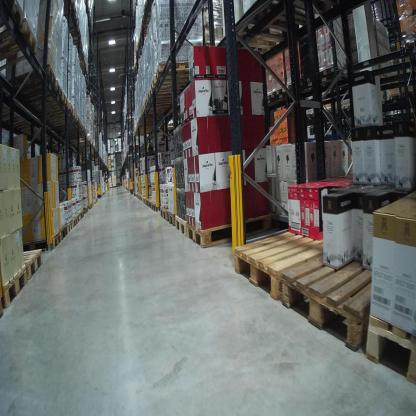pallet: (235, 207, 348, 325), (281, 234, 378, 352), (243, 2, 337, 46), (364, 313, 416, 385), (188, 213, 262, 256), (214, 21, 283, 63), (0, 18, 41, 73), (7, 61, 58, 99), (10, 79, 63, 111), (154, 59, 208, 85), (2, 263, 28, 313), (16, 91, 69, 113), (1, 1, 25, 46), (17, 246, 43, 285), (16, 231, 62, 252), (33, 100, 75, 121), (150, 74, 200, 91), (315, 65, 350, 84), (59, 1, 81, 17), (175, 214, 189, 238), (63, 14, 82, 31), (286, 75, 303, 90), (167, 208, 176, 230), (273, 86, 286, 99), (151, 201, 164, 213), (61, 221, 69, 240), (161, 205, 170, 221), (1, 287, 5, 320), (65, 219, 73, 233), (71, 215, 79, 229), (267, 92, 274, 100), (147, 199, 152, 210)
